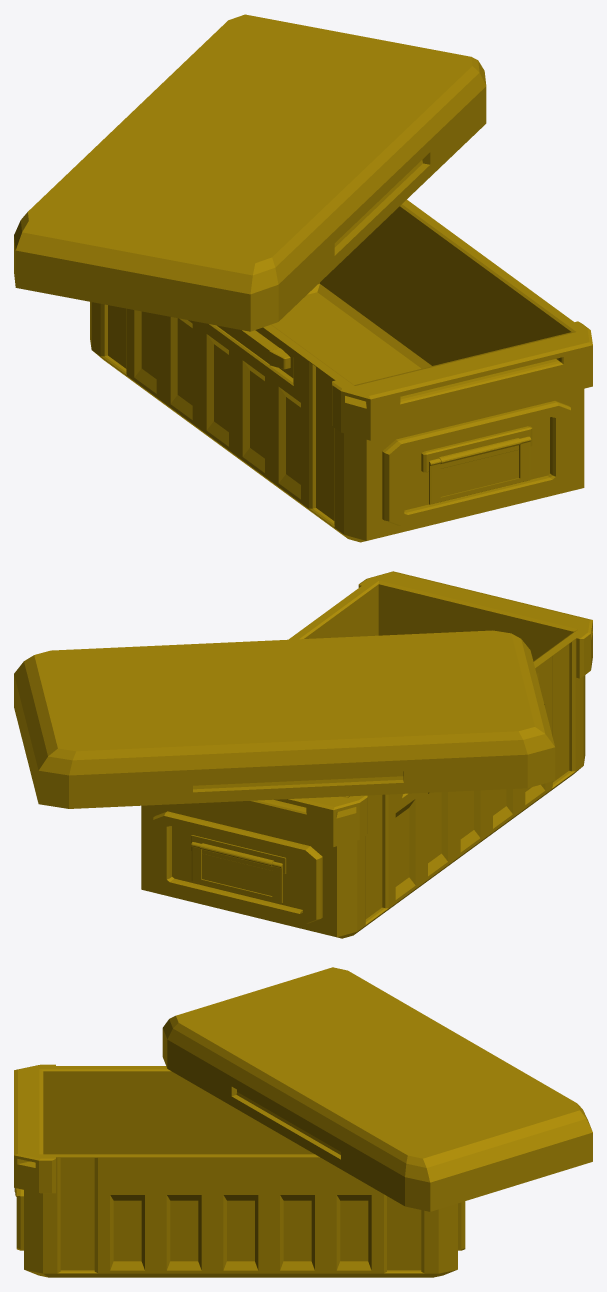
File: SM_Crate_Nuclear_half_Open.fbx
The picture shows the model from 3 angles, top to bottom: view 1: azimuth 30°, elevation 25°; view 2: azimuth 150°, elevation 25°; view 3: azimuth 270°, elevation 25°; orthographic projection. The views are drawn at different scales.
Parts seen in each view (by area): view 1: SM_Box_Good.001; view 2: SM_Box_Good.001; view 3: SM_Box_Good.001.
Boxes of the visible parts, x1,y1,x2,y2 form: SM_Box_Good.001: (14,14,592,542); SM_Box_Good.001: (14,571,592,938); SM_Box_Good.001: (14,967,592,1277).
Size of the model in its own units: 2.14 by 0.8374 by 2.55.
